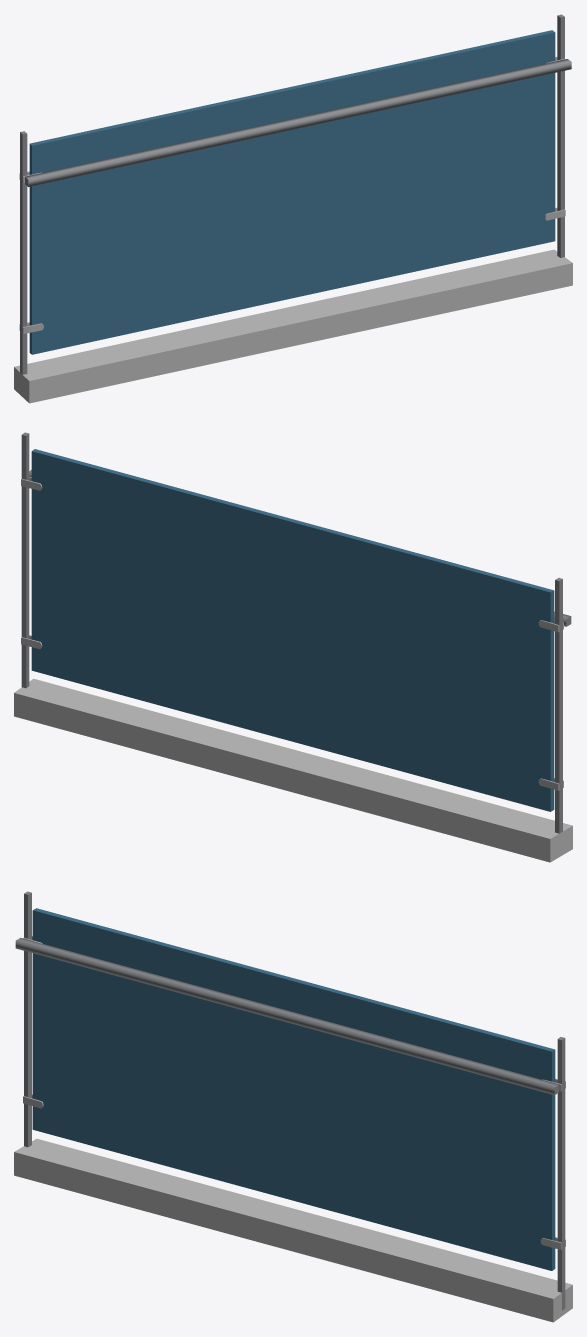
File: MCM_2W_Block_001.fbx
The picture shows the model from 3 angles, top to bottom: view 1: azimuth 30°, elevation 25°; view 2: azimuth 150°, elevation 25°; view 3: azimuth 330°, elevation 25°; orthographic projection. The views are drawn at different scales.
Parts seen in each view (by area): view 1: MCM_2W_Block_001; view 2: MCM_2W_Block_001; view 3: MCM_2W_Block_001.
Boxes of the visible parts, x1=… form: MCM_2W_Block_001: x1=14, y1=14, x2=572, y2=403; MCM_2W_Block_001: x1=14, y1=432, x2=572, y2=862; MCM_2W_Block_001: x1=14, y1=891, x2=572, y2=1322.
Size of the model in its own units: 2.47 by 0.2706 by 1.17.
3 materials, 3 textured.
